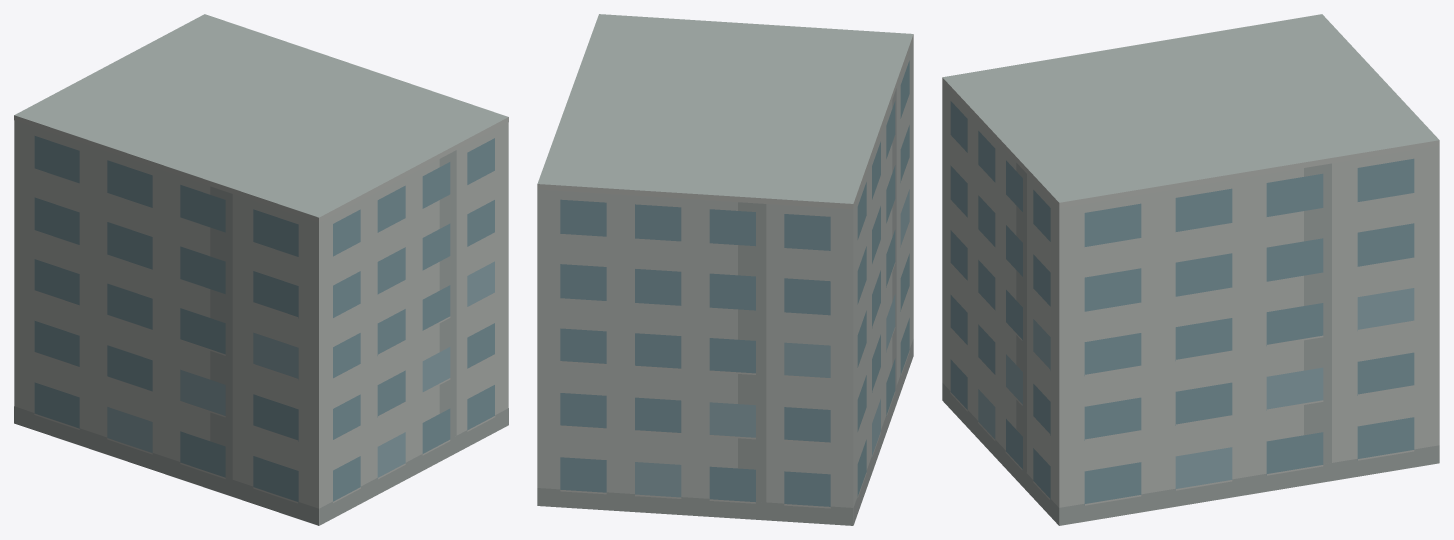
Rendered from survey-upis-32942613.glb.
The picture shows the model from 3 angles, left to right: view 1: azimuth 30°, elevation 25°; view 2: azimuth 150°, elevation 25°; view 3: azimuth 270°, elevation 25°; orthographic projection. The views are drawn at different scales.
Parts seen in each view (by area): view 1: survey-upis-32942613.tmp; view 2: survey-upis-32942613.tmp; view 3: survey-upis-32942613.tmp.
Boxes of the visible parts, left/top/right/bottom form: survey-upis-32942613.tmp: left=14, top=14, right=508, bottom=525; survey-upis-32942613.tmp: left=537, top=14, right=913, bottom=525; survey-upis-32942613.tmp: left=942, top=14, right=1439, bottom=525.
Bounding box in the file's own units: 17.8 × 14.2 × 19.82.
